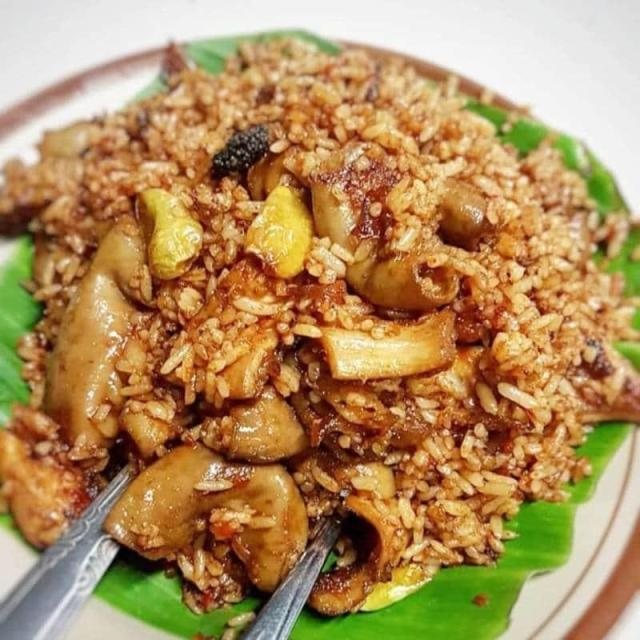Nasi Goreng: (1, 37, 638, 624), (50, 66, 610, 575)
